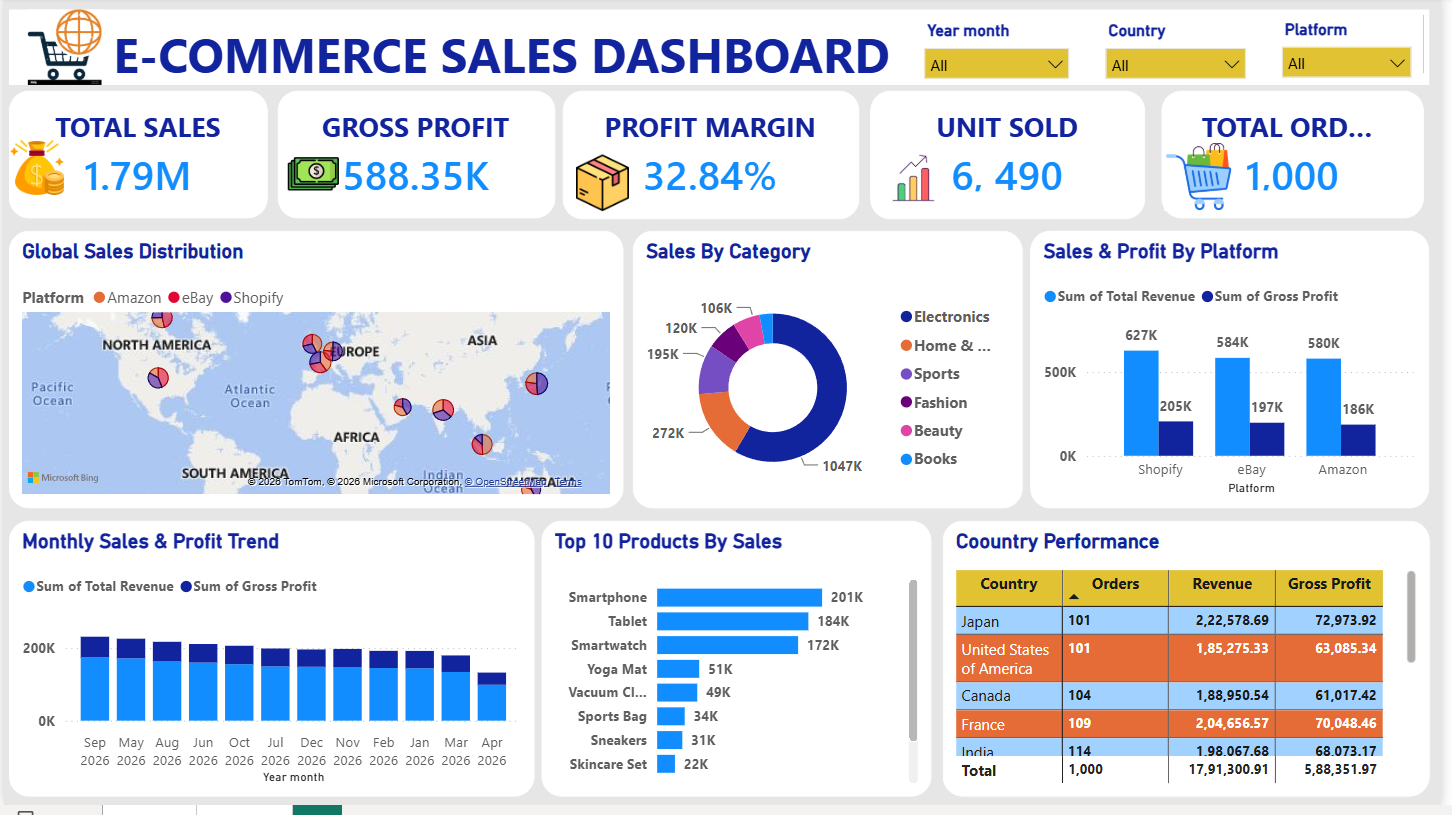

The dashboard page shown, as its layout file describes it:
{"tool":"powerbi","page":{"name":"Page 1","canvas":[1280,720],"ordinal":0},"visuals":[{"type":"textbox","box":[4.1,11,1265.2,67.2],"z":0},{"type":"image","box":[4.1,11,98.9,67.6],"z":1000},{"type":"cardVisual","fields":{"Data":["Ecom_Sales_Data.Total sales"]},"box":[4.1,83.7,230.5,113.9],"z":2000},{"type":"cardVisual","fields":{"Data":["Ecom_Sales_Data.Gross Profit KPI"]},"box":[244.3,83.7,247,113.9],"z":3000},{"type":"cardVisual","fields":{"Data":["Ecom_Sales_Data.Profit Margin %"]},"box":[497.6,83.5,263.8,114.7],"z":4000},{"type":"cardVisual","fields":{"Data":["Ecom_Sales_Data.Unit Sold Display"]},"box":[771.4,83.5,244.9,114.7],"z":5000},{"type":"cardVisual","fields":{"Data":["Ecom_Sales_Data.Total Orders Display"]},"box":[1030.5,83.7,233.3,113.9],"z":6000},{"type":"image","box":[4.1,120.8,49.4,64.5],"z":7000},{"type":"image","box":[771.2,129.3,77.1,64.1],"z":8000},{"type":"image","box":[505,140,54.9,50.8],"z":9000},{"type":"image","box":[1030.5,129,66.4,61.5],"z":10000},{"type":"image","box":[252.5,120.8,45.8,74.8],"z":11000},{"type":"map","title":"Global Sales Distribution","fields":{"Category":["Ecom_Sales_Data.Customer_Country"],"Size":["Sum(Ecom_Sales_Data.Total Revenue)"],"Series":["Ecom_Sales_Data.Platform"]},"box":[4.1,208.6,547.5,247],"z":12000},{"type":"donutChart","title":"Sales By Category","fields":{"Category":["Ecom_Sales_Data.Product_Category"],"Y":["Sum(Ecom_Sales_Data.Total Revenue)"]},"box":[559.9,208.6,347.5,247.3],"z":13000},{"type":"clusteredColumnChart","title":"Sales & Profit By Platform","fields":{"Category":["Ecom_Sales_Data.Platform"],"Y":["Sum(Ecom_Sales_Data.Total Revenue)","Sum(Ecom_Sales_Data.Gross Profit)"]},"box":[913.9,208.6,355.4,247],"z":14000},{"type":"lineStackedColumnComboChart","title":"Monthly Sales & Profit Trend","fields":{"Category":["Calendar.Year month"],"Y":["Sum(Ecom_Sales_Data.Total Revenue)","Sum(Ecom_Sales_Data.Gross Profit)"]},"box":[4.1,466.6,467.9,245.6],"z":15000},{"type":"barChart","title":"Top 10 Products By Sales","fields":{"Category":["Ecom_Sales_Data.Product_Name"],"Y":["Sum(Ecom_Sales_Data.Total Revenue)"]},"box":[478.9,466.6,347.2,245.6],"z":16000},{"type":"pivotTable","title":"Coountry Performance ","fields":{"Rows":["Ecom_Sales_Data.Customer_Country"],"Values":["Ecom_Sales_Data.Total Orders Display","Sum(Ecom_Sales_Data.Total Revenue)","Sum(Ecom_Sales_Data.Gross Profit)"]},"box":[835.7,466.6,433.6,245.6],"z":17000},{"type":"slicer","fields":{"Values":["Calendar.Year month"]},"box":[809.6,16.5,149.6,57.6],"z":18000},{"type":"slicer","fields":{"Values":["Ecom_Sales_Data.Customer_Country"]},"box":[970.2,16.5,145.5,57.6],"z":19000},{"type":"slicer","fields":{"Values":["Ecom_Sales_Data.Platform"]},"box":[1128,15.1,135.8,59],"z":20000}]}

Visuals, with their boxes in screenshot pixels (x1, y1, x2, y2), scaled from the page's 1280x720 canvas onto the 1452x815 screenshot:
textbox: (5, 12, 1440, 89)
image: (5, 12, 117, 89)
cardVisual - Ecom_Sales_Data.Total sales: (5, 95, 266, 224)
cardVisual - Ecom_Sales_Data.Gross Profit KPI: (277, 95, 557, 224)
cardVisual - Ecom_Sales_Data.Profit Margin %: (564, 95, 864, 224)
cardVisual - Ecom_Sales_Data.Unit Sold Display: (875, 95, 1153, 224)
cardVisual - Ecom_Sales_Data.Total Orders Display: (1169, 95, 1434, 224)
image: (5, 137, 61, 210)
image: (875, 146, 962, 219)
image: (573, 158, 635, 216)
image: (1169, 146, 1244, 216)
image: (286, 137, 338, 221)
"Global Sales Distribution" map: (5, 236, 626, 516)
"Sales By Category" donutChart: (635, 236, 1029, 516)
"Sales & Profit By Platform" clusteredColumnChart: (1037, 236, 1440, 516)
"Monthly Sales & Profit Trend" lineStackedColumnComboChart: (5, 528, 535, 806)
"Top 10 Products By Sales" barChart: (543, 528, 937, 806)
"Coountry Performance " pivotTable: (948, 528, 1440, 806)
slicer - Calendar.Year month: (918, 19, 1088, 84)
slicer - Ecom_Sales_Data.Customer_Country: (1101, 19, 1266, 84)
slicer - Ecom_Sales_Data.Platform: (1280, 17, 1434, 84)
